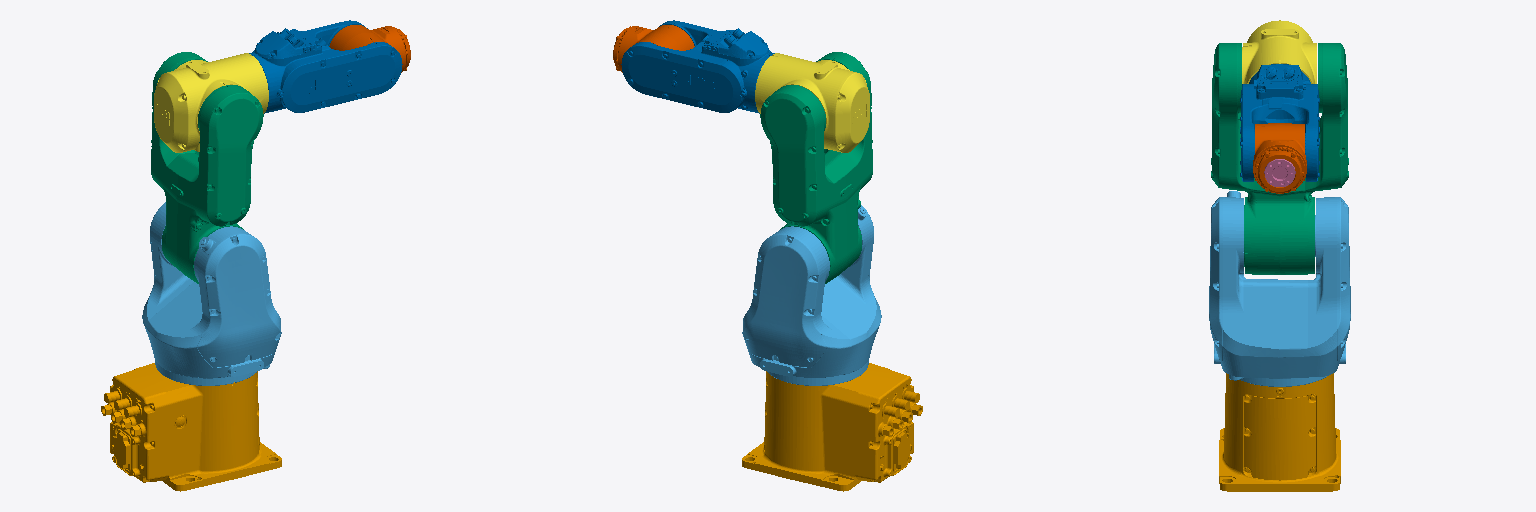
The robot description file, URDF, robot "IRB1100_4kg-475-STD":
<?xml version="1.0" ?>
<robot name="IRB1100_4kg-475-STD">

<link name="base_link">
  <inertial>
    <origin xyz="-0.02787704551344377 6.546822329351464e-06 0.07388271158666021" rpy="0 0 0"/>
    <mass value="27.850494502837474"/>
    <inertia ixx="0.08843" iyy="0.137195" izz="0.117326" ixy="2.6e-05" iyz="2e-06" ixz="-0.000602"/>
  </inertial>
  <visual>
    <origin xyz="0 0 0" rpy="0 0 0"/>
    <geometry>
      <mesh filename="package://IRB1100_4kg-475-STD_description/meshes/base_link.stl" scale="0.001 0.001 0.001"/>
    </geometry>
    <material name="silver"/>
  </visual>
  <collision>
    <origin xyz="0 0 0" rpy="0 0 0"/>
    <geometry>
      <mesh filename="package://IRB1100_4kg-475-STD_description/meshes/base_link.stl" scale="0.001 0.001 0.001"/>
    </geometry>
  </collision>
</link>

<link name="link_1_1">
  <inertial>
    <origin xyz="0.006224760554789564 0.0005888154902042292 0.09006136295556111" rpy="0 0 0"/>
    <mass value="24.887771906712818"/>
    <inertia ixx="0.147959" iyy="0.109504" izz="0.106644" ixy="0.000149" iyz="-0.001709" ixz="0.001207"/>
  </inertial>
  <visual>
    <origin xyz="0.0 0.0 -0.146" rpy="0 0 0"/>
    <geometry>
      <mesh filename="package://IRB1100_4kg-475-STD_description/meshes/link_1_1.stl" scale="0.001 0.001 0.001"/>
    </geometry>
    <material name="silver"/>
  </visual>
  <collision>
    <origin xyz="0.0 0.0 -0.146" rpy="0 0 0"/>
    <geometry>
      <mesh filename="package://IRB1100_4kg-475-STD_description/meshes/link_1_1.stl" scale="0.001 0.001 0.001"/>
    </geometry>
  </collision>
</link>

<link name="link_2_1">
  <inertial>
    <origin xyz="-0.008027679670801875 0.052705702406375565 0.09362262970446988" rpy="0 0 0"/>
    <mass value="17.325080500260935"/>
    <inertia ixx="0.162571" iyy="0.128779" izz="0.052568" ixy="-9.1e-05" iyz="-0.006451" ixz="0.001702"/>
  </inertial>
  <visual>
    <origin xyz="0.0 0.0525 -0.327" rpy="0 0 0"/>
    <geometry>
      <mesh filename="package://IRB1100_4kg-475-STD_description/meshes/link_2_1.stl" scale="0.001 0.001 0.001"/>
    </geometry>
    <material name="silver"/>
  </visual>
  <collision>
    <origin xyz="0.0 0.0525 -0.327" rpy="0 0 0"/>
    <geometry>
      <mesh filename="package://IRB1100_4kg-475-STD_description/meshes/link_2_1.stl" scale="0.001 0.001 0.001"/>
    </geometry>
  </collision>
</link>

<link name="link_3_1">
  <inertial>
    <origin xyz="-0.006772920531733471 0.058186223599002704 0.004485082427170051" rpy="0 0 0"/>
    <mass value="8.02511707118897"/>
    <inertia ixx="0.011935" iyy="0.016404" izz="0.016998" ixy="0.000252" iyz="-0.000352" ixz="-0.000935"/>
  </inertial>
  <visual>
    <origin xyz="0.0 0.063 -0.552" rpy="0 0 0"/>
    <geometry>
      <mesh filename="package://IRB1100_4kg-475-STD_description/meshes/link_3_1.stl" scale="0.001 0.001 0.001"/>
    </geometry>
    <material name="silver"/>
  </visual>
  <collision>
    <origin xyz="0.0 0.063 -0.552" rpy="0 0 0"/>
    <geometry>
      <mesh filename="package://IRB1100_4kg-475-STD_description/meshes/link_3_1.stl" scale="0.001 0.001 0.001"/>
    </geometry>
  </collision>
</link>

<link name="link_4_1">
  <inertial>
    <origin xyz="0.07723634471464087 -0.00032498614307843775 0.0027246283135325955" rpy="0 0 0"/>
    <mass value="10.264284403829079"/>
    <inertia ixx="0.014276" iyy="0.038755" izz="0.042088" ixy="0.000328" iyz="-9e-06" ixz="0.000612"/>
  </inertial>
  <visual>
    <origin xyz="-0.0725 0.0 -0.562" rpy="0 0 0"/>
    <geometry>
      <mesh filename="package://IRB1100_4kg-475-STD_description/meshes/link_4_1.stl" scale="0.001 0.001 0.001"/>
    </geometry>
    <material name="silver"/>
  </visual>
  <collision>
    <origin xyz="-0.0725 0.0 -0.562" rpy="0 0 0"/>
    <geometry>
      <mesh filename="package://IRB1100_4kg-475-STD_description/meshes/link_4_1.stl" scale="0.001 0.001 0.001"/>
    </geometry>
  </collision>
</link>

<link name="link_5_1">
  <inertial>
    <origin xyz="0.012701377047647011 -0.02631192635435389 -4.3645516738521906e-06" rpy="0 0 0"/>
    <mass value="2.582057596654616"/>
    <inertia ixx="0.00162" iyy="0.002724" izz="0.002458" ixy="5e-06" iyz="0.0" ixz="-0.0"/>
  </inertial>
  <visual>
    <origin xyz="-0.25 -0.0265 -0.562" rpy="0 0 0"/>
    <geometry>
      <mesh filename="package://IRB1100_4kg-475-STD_description/meshes/link_5_1.stl" scale="0.001 0.001 0.001"/>
    </geometry>
    <material name="silver"/>
  </visual>
  <collision>
    <origin xyz="-0.25 -0.0265 -0.562" rpy="0 0 0"/>
    <geometry>
      <mesh filename="package://IRB1100_4kg-475-STD_description/meshes/link_5_1.stl" scale="0.001 0.001 0.001"/>
    </geometry>
  </collision>
</link>

<link name="link_6_1">
  <inertial>
    <origin xyz="0.003683264798293173 -5.8526723754688026e-05 -3.672223617057213e-05" rpy="0 0 0"/>
    <mass value="0.05751158667684128"/>
    <inertia ixx="1.4e-05" iyy="7e-06" izz="7e-06" ixy="0.0" iyz="-0.0" ixz="0.0"/>
  </inertial>
  <visual>
    <origin xyz="-0.306 -0.0 -0.562" rpy="0 0 0"/>
    <geometry>
      <mesh filename="package://IRB1100_4kg-475-STD_description/meshes/link_6_1.stl" scale="0.001 0.001 0.001"/>
    </geometry>
    <material name="silver"/>
  </visual>
  <collision>
    <origin xyz="-0.306 -0.0 -0.562" rpy="0 0 0"/>
    <geometry>
      <mesh filename="package://IRB1100_4kg-475-STD_description/meshes/link_6_1.stl" scale="0.001 0.001 0.001"/>
    </geometry>
  </collision>
</link>

<joint name="j1" type="continuous">
  <origin xyz="0.0 0.0 0.146" rpy="0 0 0"/>
  <parent link="base_link"/>
  <child link="link_1_1"/>
  <axis xyz="0.0 0.0 1.0"/>
</joint>

<joint name="j2" type="continuous">
  <origin xyz="0.0 -0.0525 0.181" rpy="0 0 0"/>
  <parent link="link_1_1"/>
  <child link="link_2_1"/>
  <axis xyz="0.0 -1.0 0.0"/>
</joint>

<joint name="j3" type="continuous">
  <origin xyz="0.0 -0.0105 0.225" rpy="0 0 0"/>
  <parent link="link_2_1"/>
  <child link="link_3_1"/>
  <axis xyz="0.0 -1.0 0.0"/>
</joint>

<joint name="j4" type="continuous">
  <origin xyz="0.0725 0.063 0.01" rpy="0 0 0"/>
  <parent link="link_3_1"/>
  <child link="link_4_1"/>
  <axis xyz="1.0 0.0 0.0"/>
</joint>

<joint name="j5" type="continuous">
  <origin xyz="0.1775 0.0265 0.0" rpy="0 0 0"/>
  <parent link="link_4_1"/>
  <child link="link_5_1"/>
  <axis xyz="0.0 -1.0 0.0"/>
</joint>

<joint name="j6" type="continuous">
  <origin xyz="0.056 -0.0265 0.0" rpy="0 0 0"/>
  <parent link="link_5_1"/>
  <child link="link_6_1"/>
  <axis xyz="-1.0 0.0 0.0"/>
</joint>

</robot>

--- Render facts (derived) ---
Views: 3 orthographic renders of the robot side by side, from view 1: azimuth 30°, elevation 25°; view 2: azimuth 150°, elevation 25°; view 3: azimuth 270°, elevation 25°.
Robot: IRB1100_4kg-475-STD — 7 links, 6 joints (6 continuous); root link base_link; default pose: every joint at zero.
Visible links, largest first — view 1: link_1_1, base_link, link_2_1, link_4_1, link_3_1, link_5_1; view 2: link_1_1, base_link, link_2_1, link_4_1, link_3_1, link_5_1; view 3: link_1_1, link_2_1, base_link, link_4_1, link_3_1, link_5_1, link_6_1.
Link boxes in pixels (x1=…): link_1_1: x1=142, y1=202, x2=281, y2=385; base_link: x1=101, y1=363, x2=281, y2=491; link_2_1: x1=151, y1=52, x2=263, y2=283; link_4_1: x1=249, y1=20, x2=402, y2=113; link_3_1: x1=154, y1=53, x2=268, y2=152; link_5_1: x1=329, y1=25, x2=410, y2=72; link_1_1: x1=742, y1=205, x2=881, y2=385; base_link: x1=742, y1=363, x2=922, y2=491; link_2_1: x1=760, y1=52, x2=872, y2=283; link_4_1: x1=621, y1=20, x2=774, y2=113; link_3_1: x1=755, y1=53, x2=869, y2=152; link_5_1: x1=613, y1=25, x2=694, y2=72; link_1_1: x1=1209, y1=191, x2=1350, y2=386; link_2_1: x1=1211, y1=43, x2=1348, y2=274; base_link: x1=1219, y1=373, x2=1340, y2=491; link_4_1: x1=1240, y1=64, x2=1319, y2=181; link_3_1: x1=1242, y1=20, x2=1316, y2=83; link_5_1: x1=1253, y1=123, x2=1306, y2=193; link_6_1: x1=1264, y1=159, x2=1295, y2=186.
Bounding box of the posed robot: 0.463 × 0.1824 × 0.6297 m (x, y, z).
7 mesh visuals loaded from 7 distinct referenced files (7 binary STL).